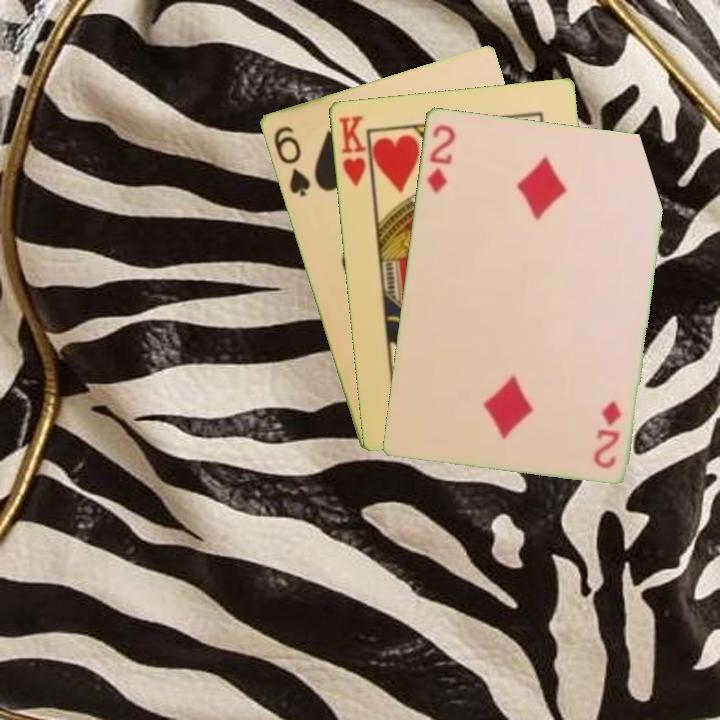2d: (423, 120, 458, 196), (591, 396, 624, 471)
6s: (269, 122, 313, 200)
Kh: (335, 112, 374, 192)
